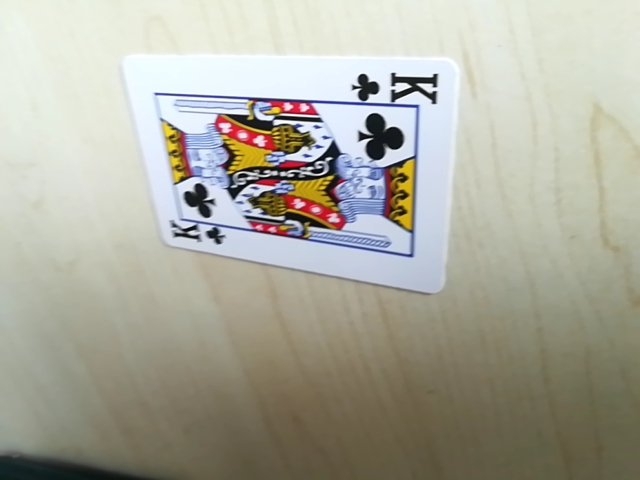mh k: (351, 65, 443, 108), (162, 218, 224, 250)
